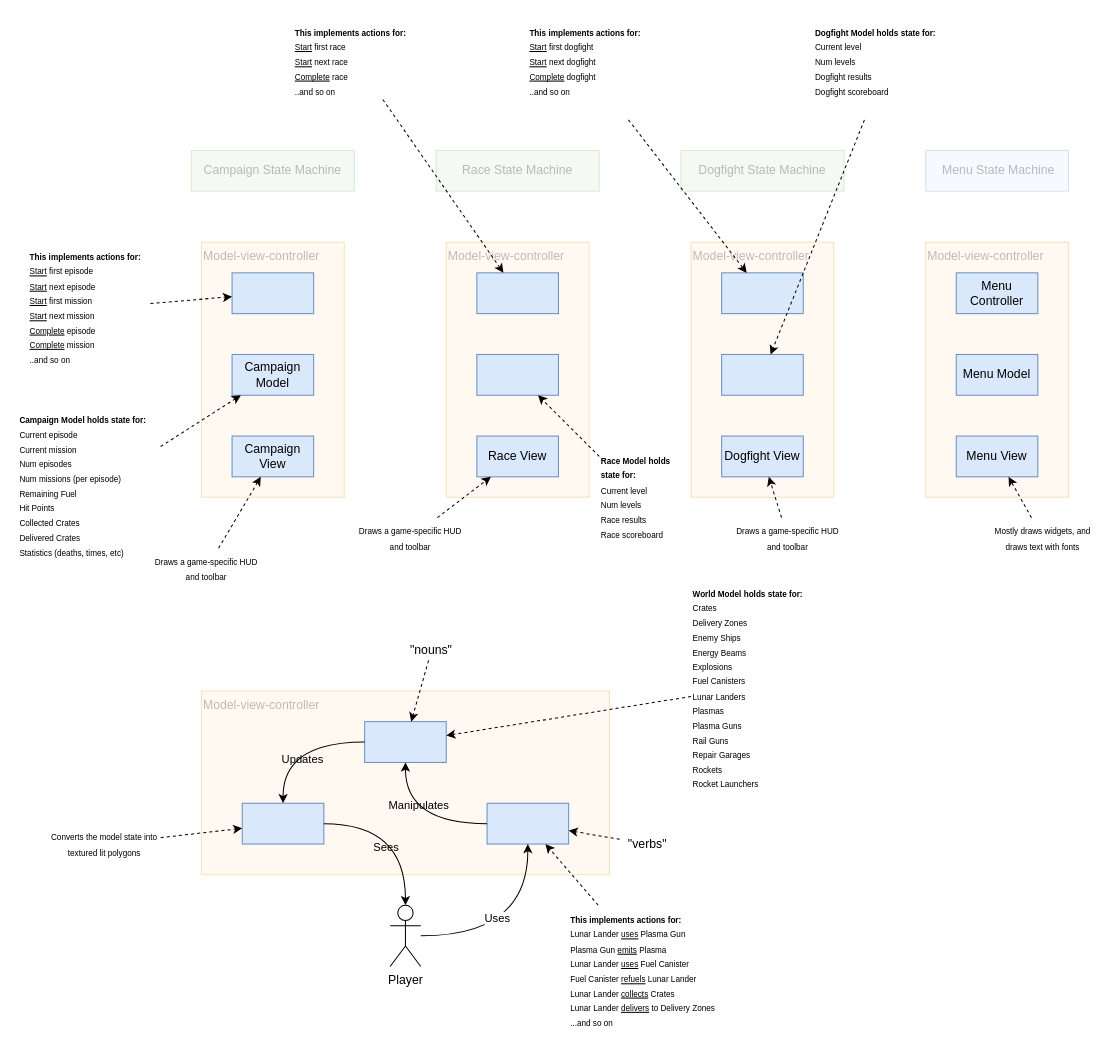
This 1116x1055 diagram has some shape labels left out. Here are the shapes that lost their labels. From the top down, the centre of each, then its label:
the point at 272,293: Campaign Controller
the point at 517,293: Race Controller
the point at 762,293: Dogfight Controller
the point at 517,374: Race Model
the point at 762,374: Dogfight Model
the point at 405,741: World Model
the point at 282,823: World View
the point at 527,823: World Controller
